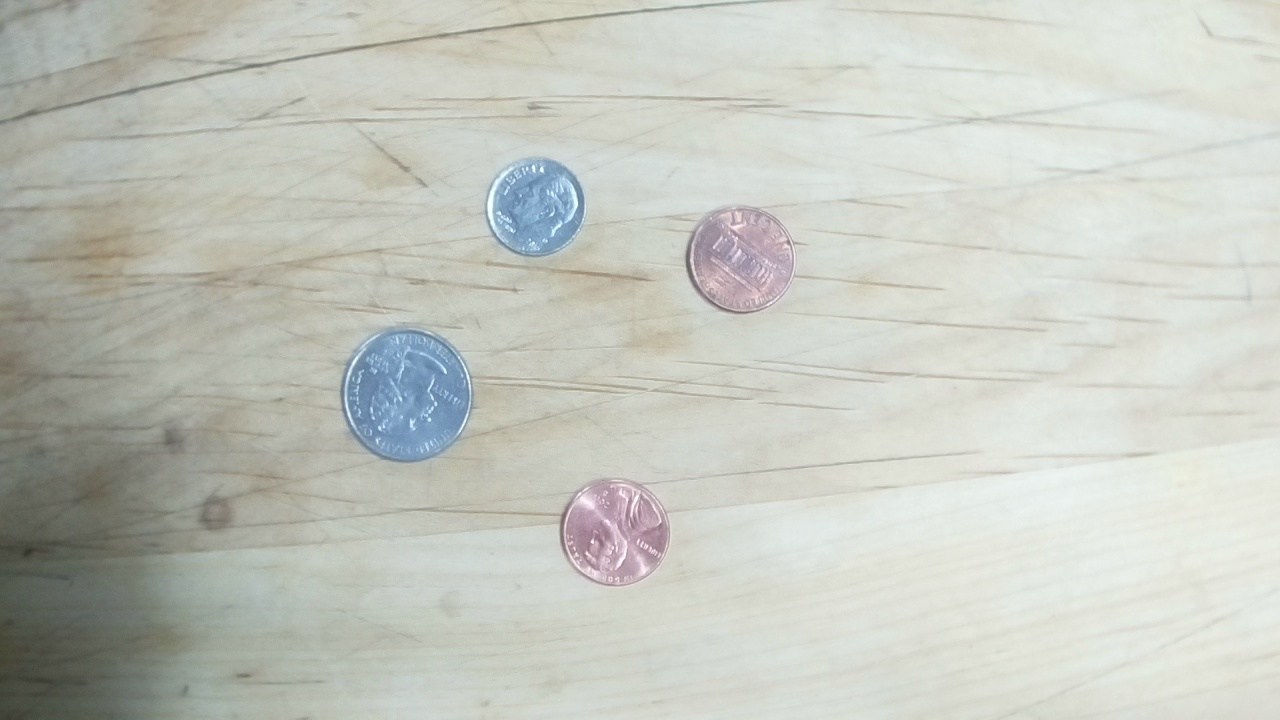dime: (484, 154, 588, 258)
penny: (685, 202, 797, 318), (560, 476, 671, 590)
quarter: (342, 326, 474, 463)
